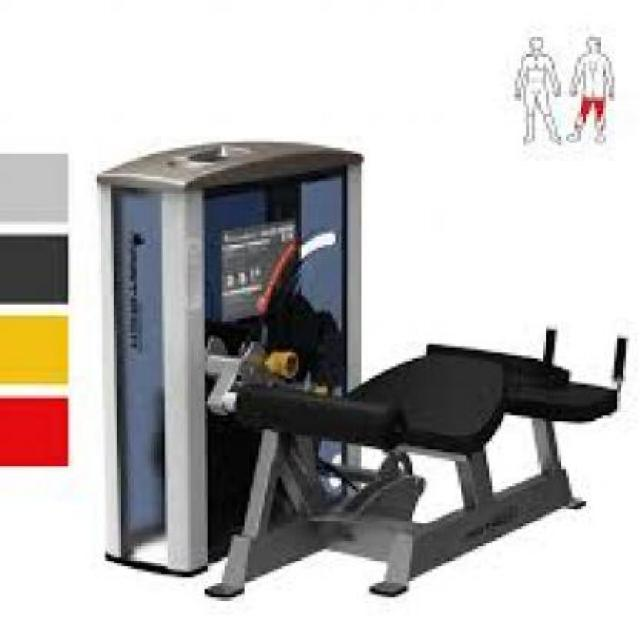reg curl machine: (97, 127, 628, 616)
